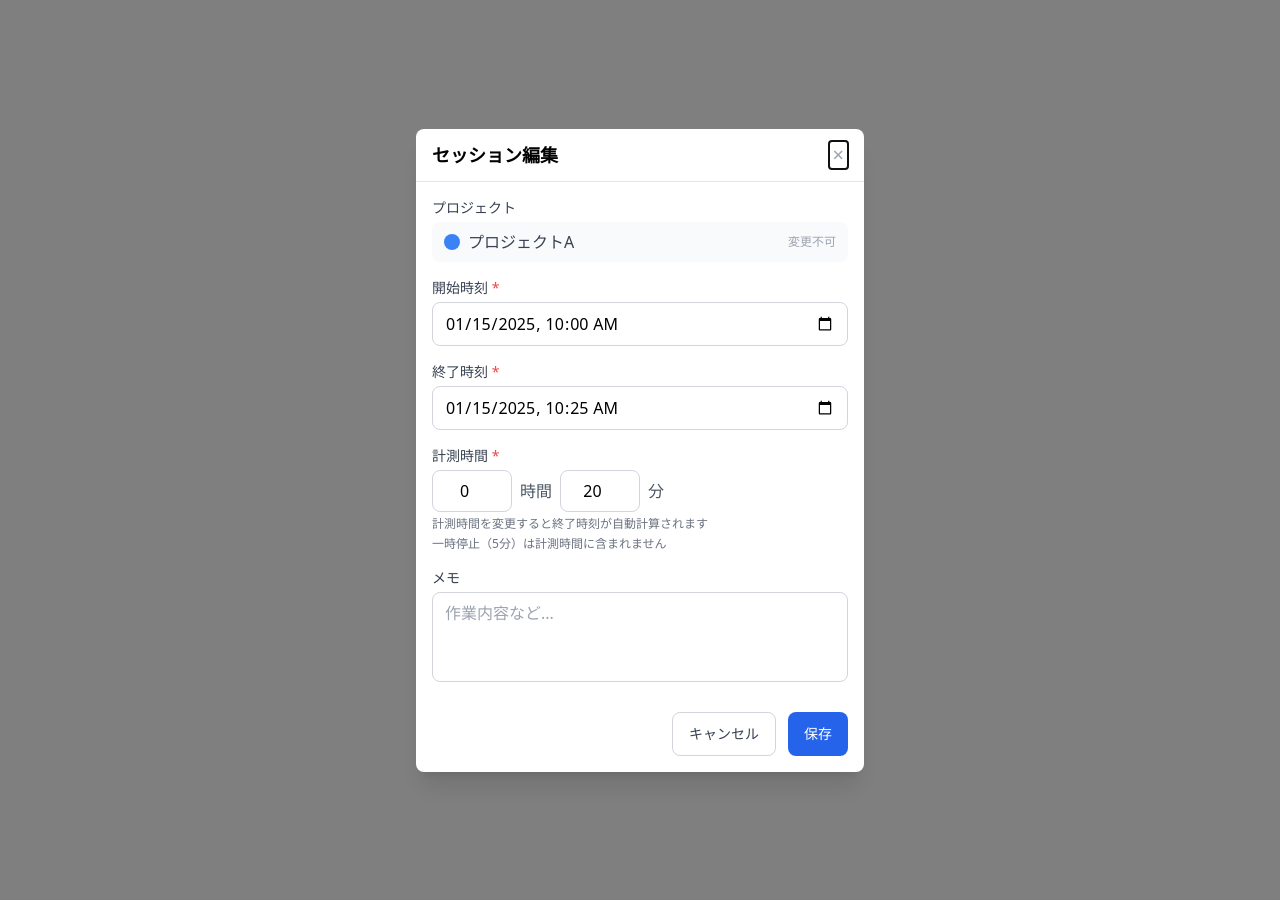
SessionEditModal › 一時停止時間を除いた計測時間が1分未満になる場合はエラーを表示する
The width and height of the screenshot is (1280, 900).
Replace the text in the field labelled "終了時刻 *" with "2025-01-15T10:05" at coordinates (640, 408), box left=432, top=386, right=848, bottom=430
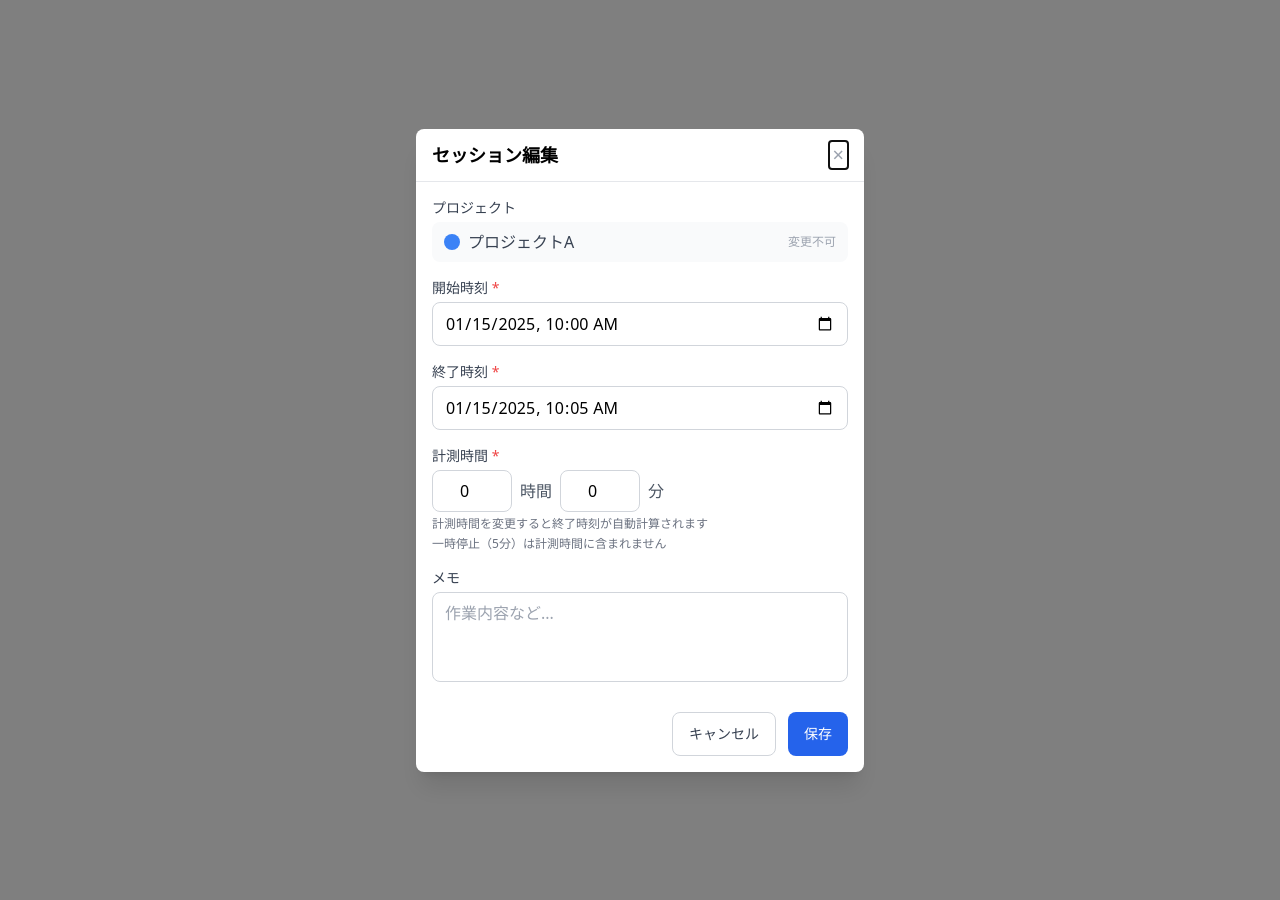
Click the button "保存" at coordinates (818, 734), box left=788, top=712, right=848, bottom=756
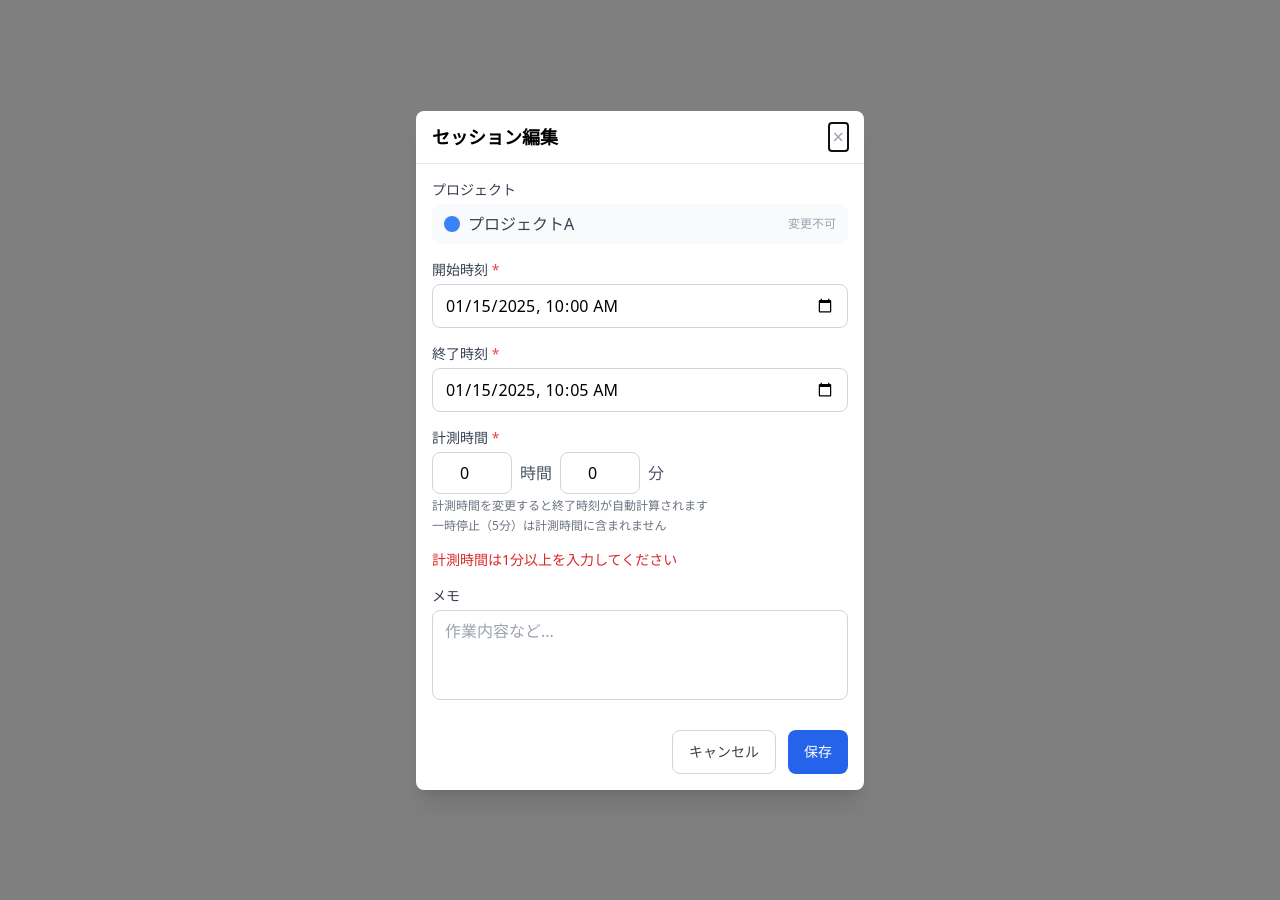
Result: the text "計測時間は1分以上を入力してください" is shown at left=432, top=550, right=677, bottom=568
